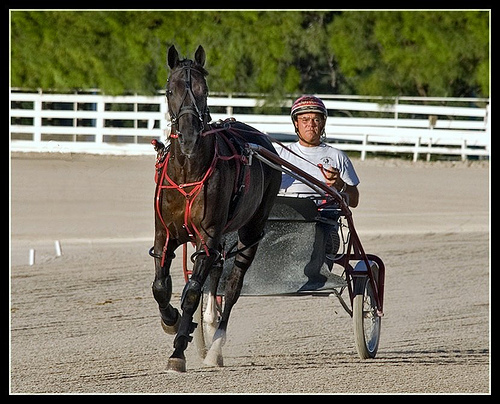horse: (148, 39, 369, 374)
